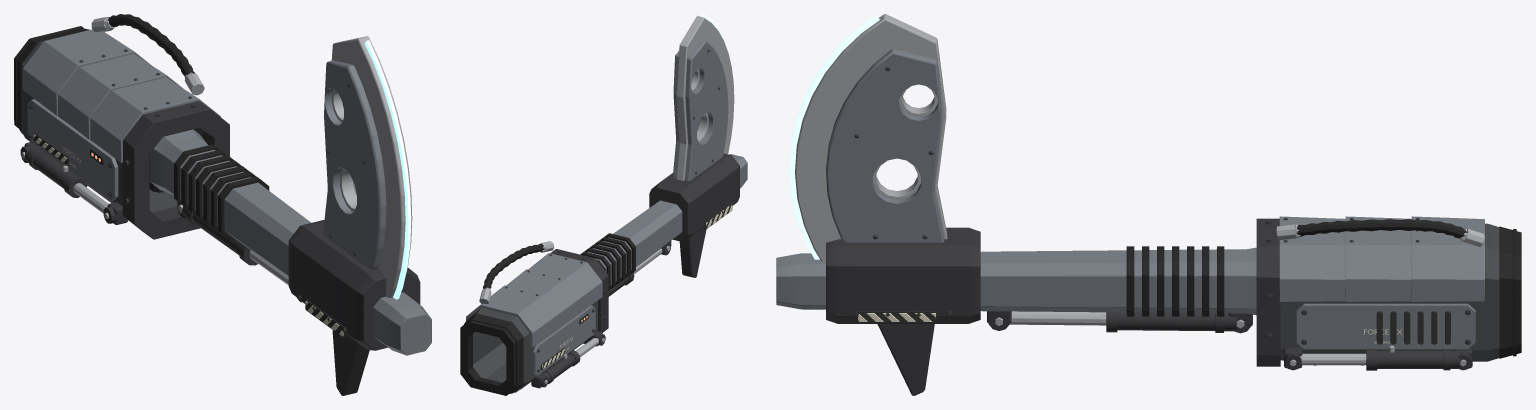
Rendered from forceax.glb.
The picture shows the model from 3 angles, left to right: view 1: azimuth 30°, elevation 25°; view 2: azimuth 150°, elevation 25°; view 3: azimuth 270°, elevation 25°; orthographic projection. The views are drawn at different scales.
Visible parts, largest first — view 1: Body; view 2: Body; view 3: Body.
Boxes of the visible parts, x1=… form: Body: x1=14, y1=14, x2=431, y2=395; Body: x1=460, y1=14, x2=747, y2=395; Body: x1=776, y1=14, x2=1521, y2=395.
Bounding box in the file's own units: 0.2301 × 0.6721 × 1.2.
